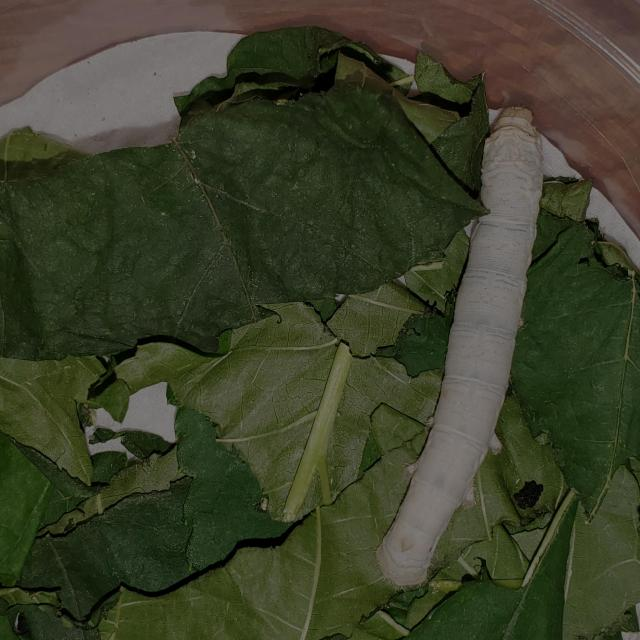Healthy: (356, 83, 575, 607)
